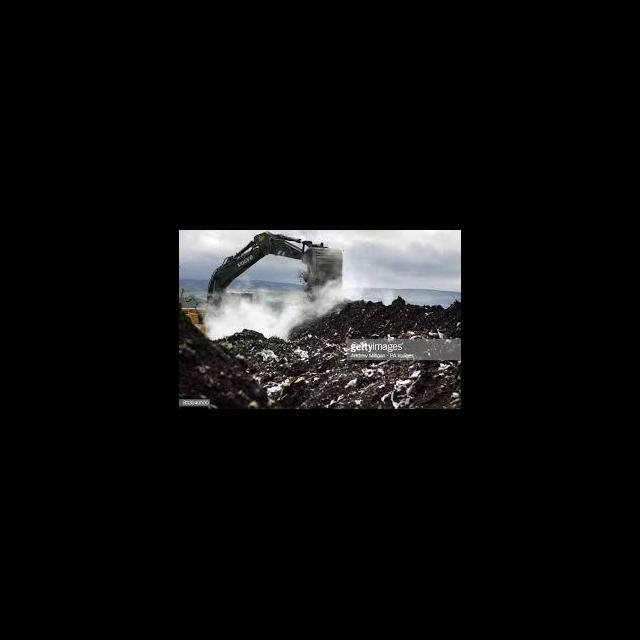Smoke: (208, 278, 340, 339)
